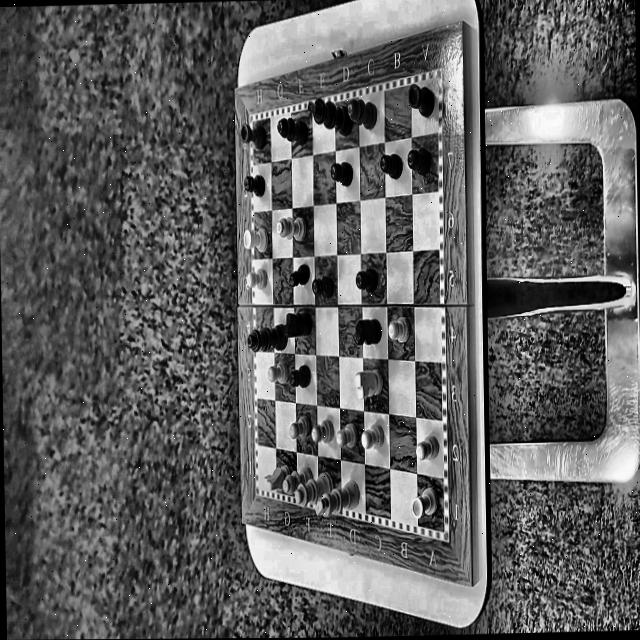chessboard: (250, 77, 443, 526)
